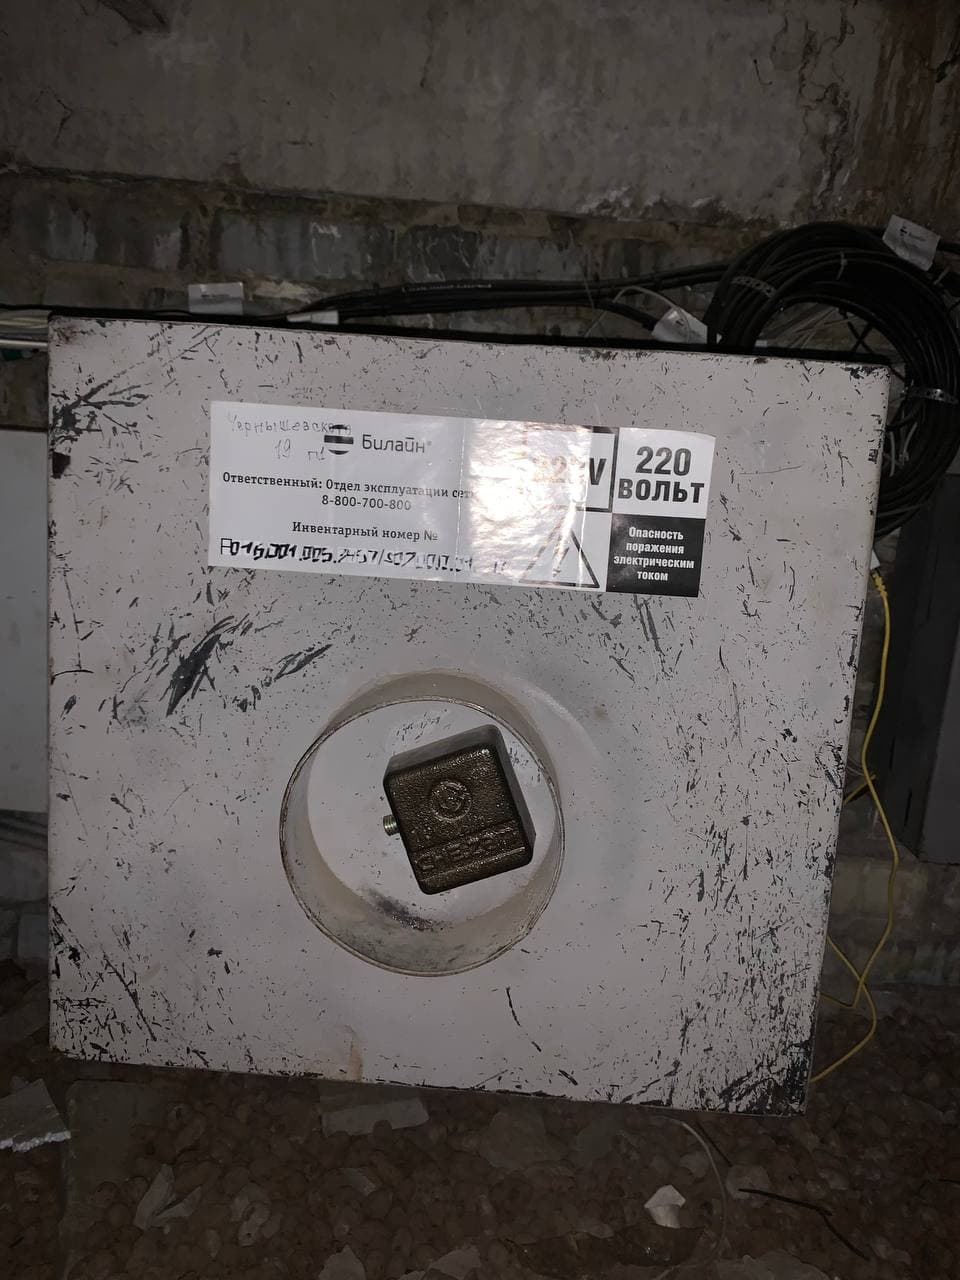shta-9: (21, 283, 903, 1132)
